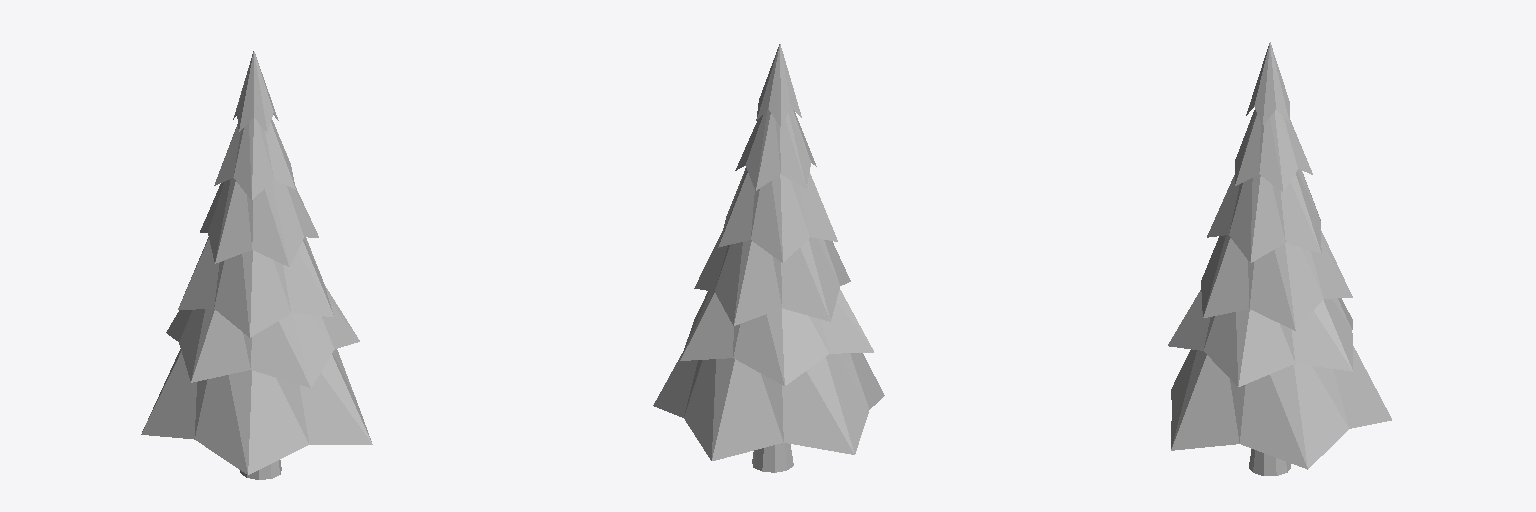
File: tree.obj
3 renders of one model, left to right at view 1: azimuth 30°, elevation 25°; view 2: azimuth 150°, elevation 25°; view 3: azimuth 270°, elevation 25°, orthographic.
Parts seen in each view (by area): view 1: Cylinder; view 2: Cylinder; view 3: Cylinder.
Part boxes in pixels (bbox=[...]): Cylinder: bbox=[141, 51, 372, 479]; Cylinder: bbox=[653, 44, 884, 472]; Cylinder: bbox=[1168, 42, 1391, 475].
Bounding box in the file's own units: 5.84 × 11.69 × 5.65.